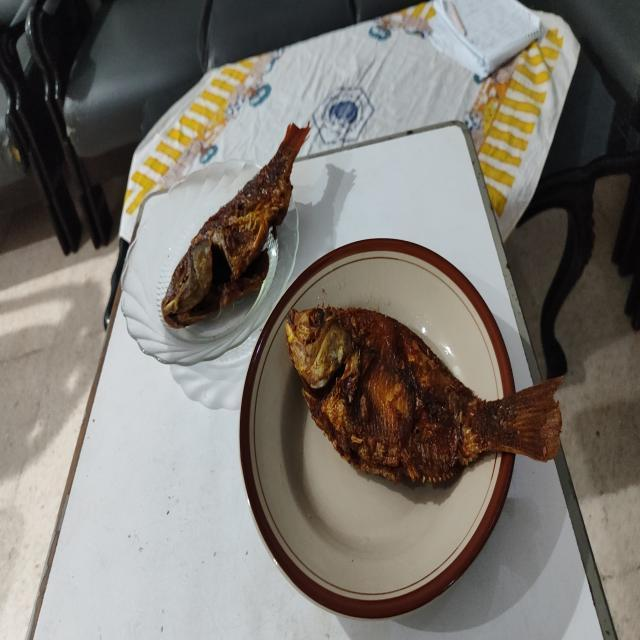ikan_mujair: (286, 304, 562, 482), (162, 124, 310, 328)
